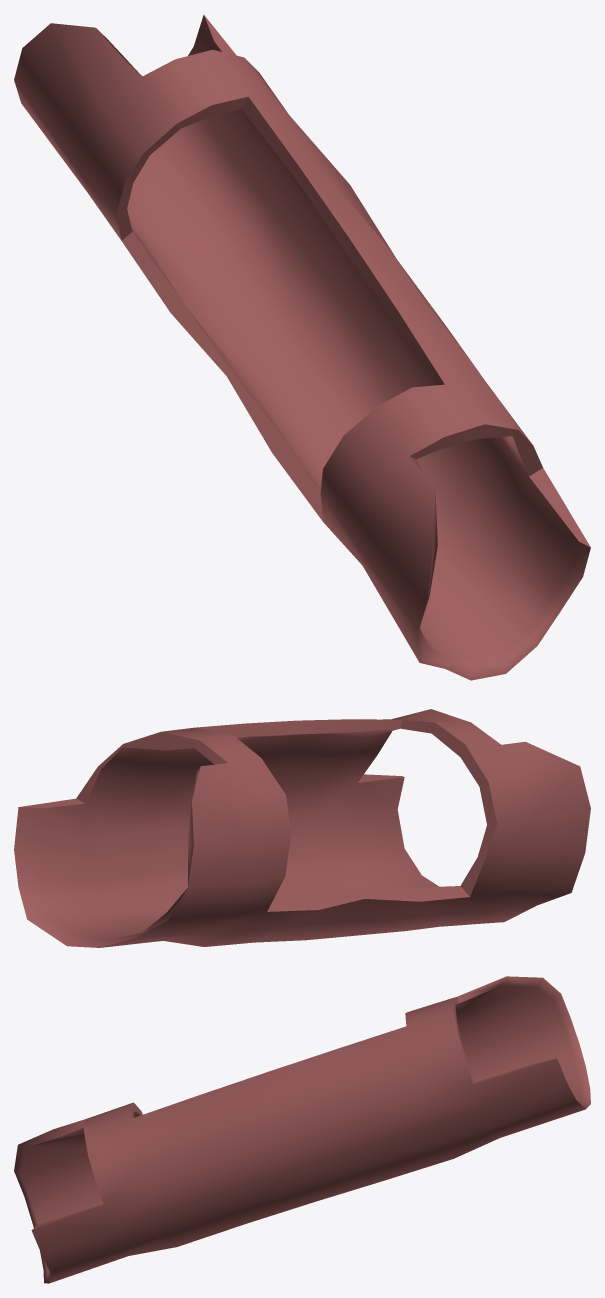
File: Baum_Tunnel.fbx
The picture shows the model from 3 angles, top to bottom: view 1: azimuth 30°, elevation 25°; view 2: azimuth 150°, elevation 25°; view 3: azimuth 270°, elevation 25°; orthographic projection. The views are drawn at different scales.
Visible parts, largest first — view 1: Baum_Tunnel; view 2: Baum_Tunnel; view 3: Baum_Tunnel.
Part boxes in pixels (x1=…): Baum_Tunnel: x1=14, y1=14, x2=590, y2=680; Baum_Tunnel: x1=14, y1=709, x2=590, y2=947; Baum_Tunnel: x1=14, y1=976, x2=590, y2=1283.
Size of the model in its own units: 408 by 865 by 1597.
